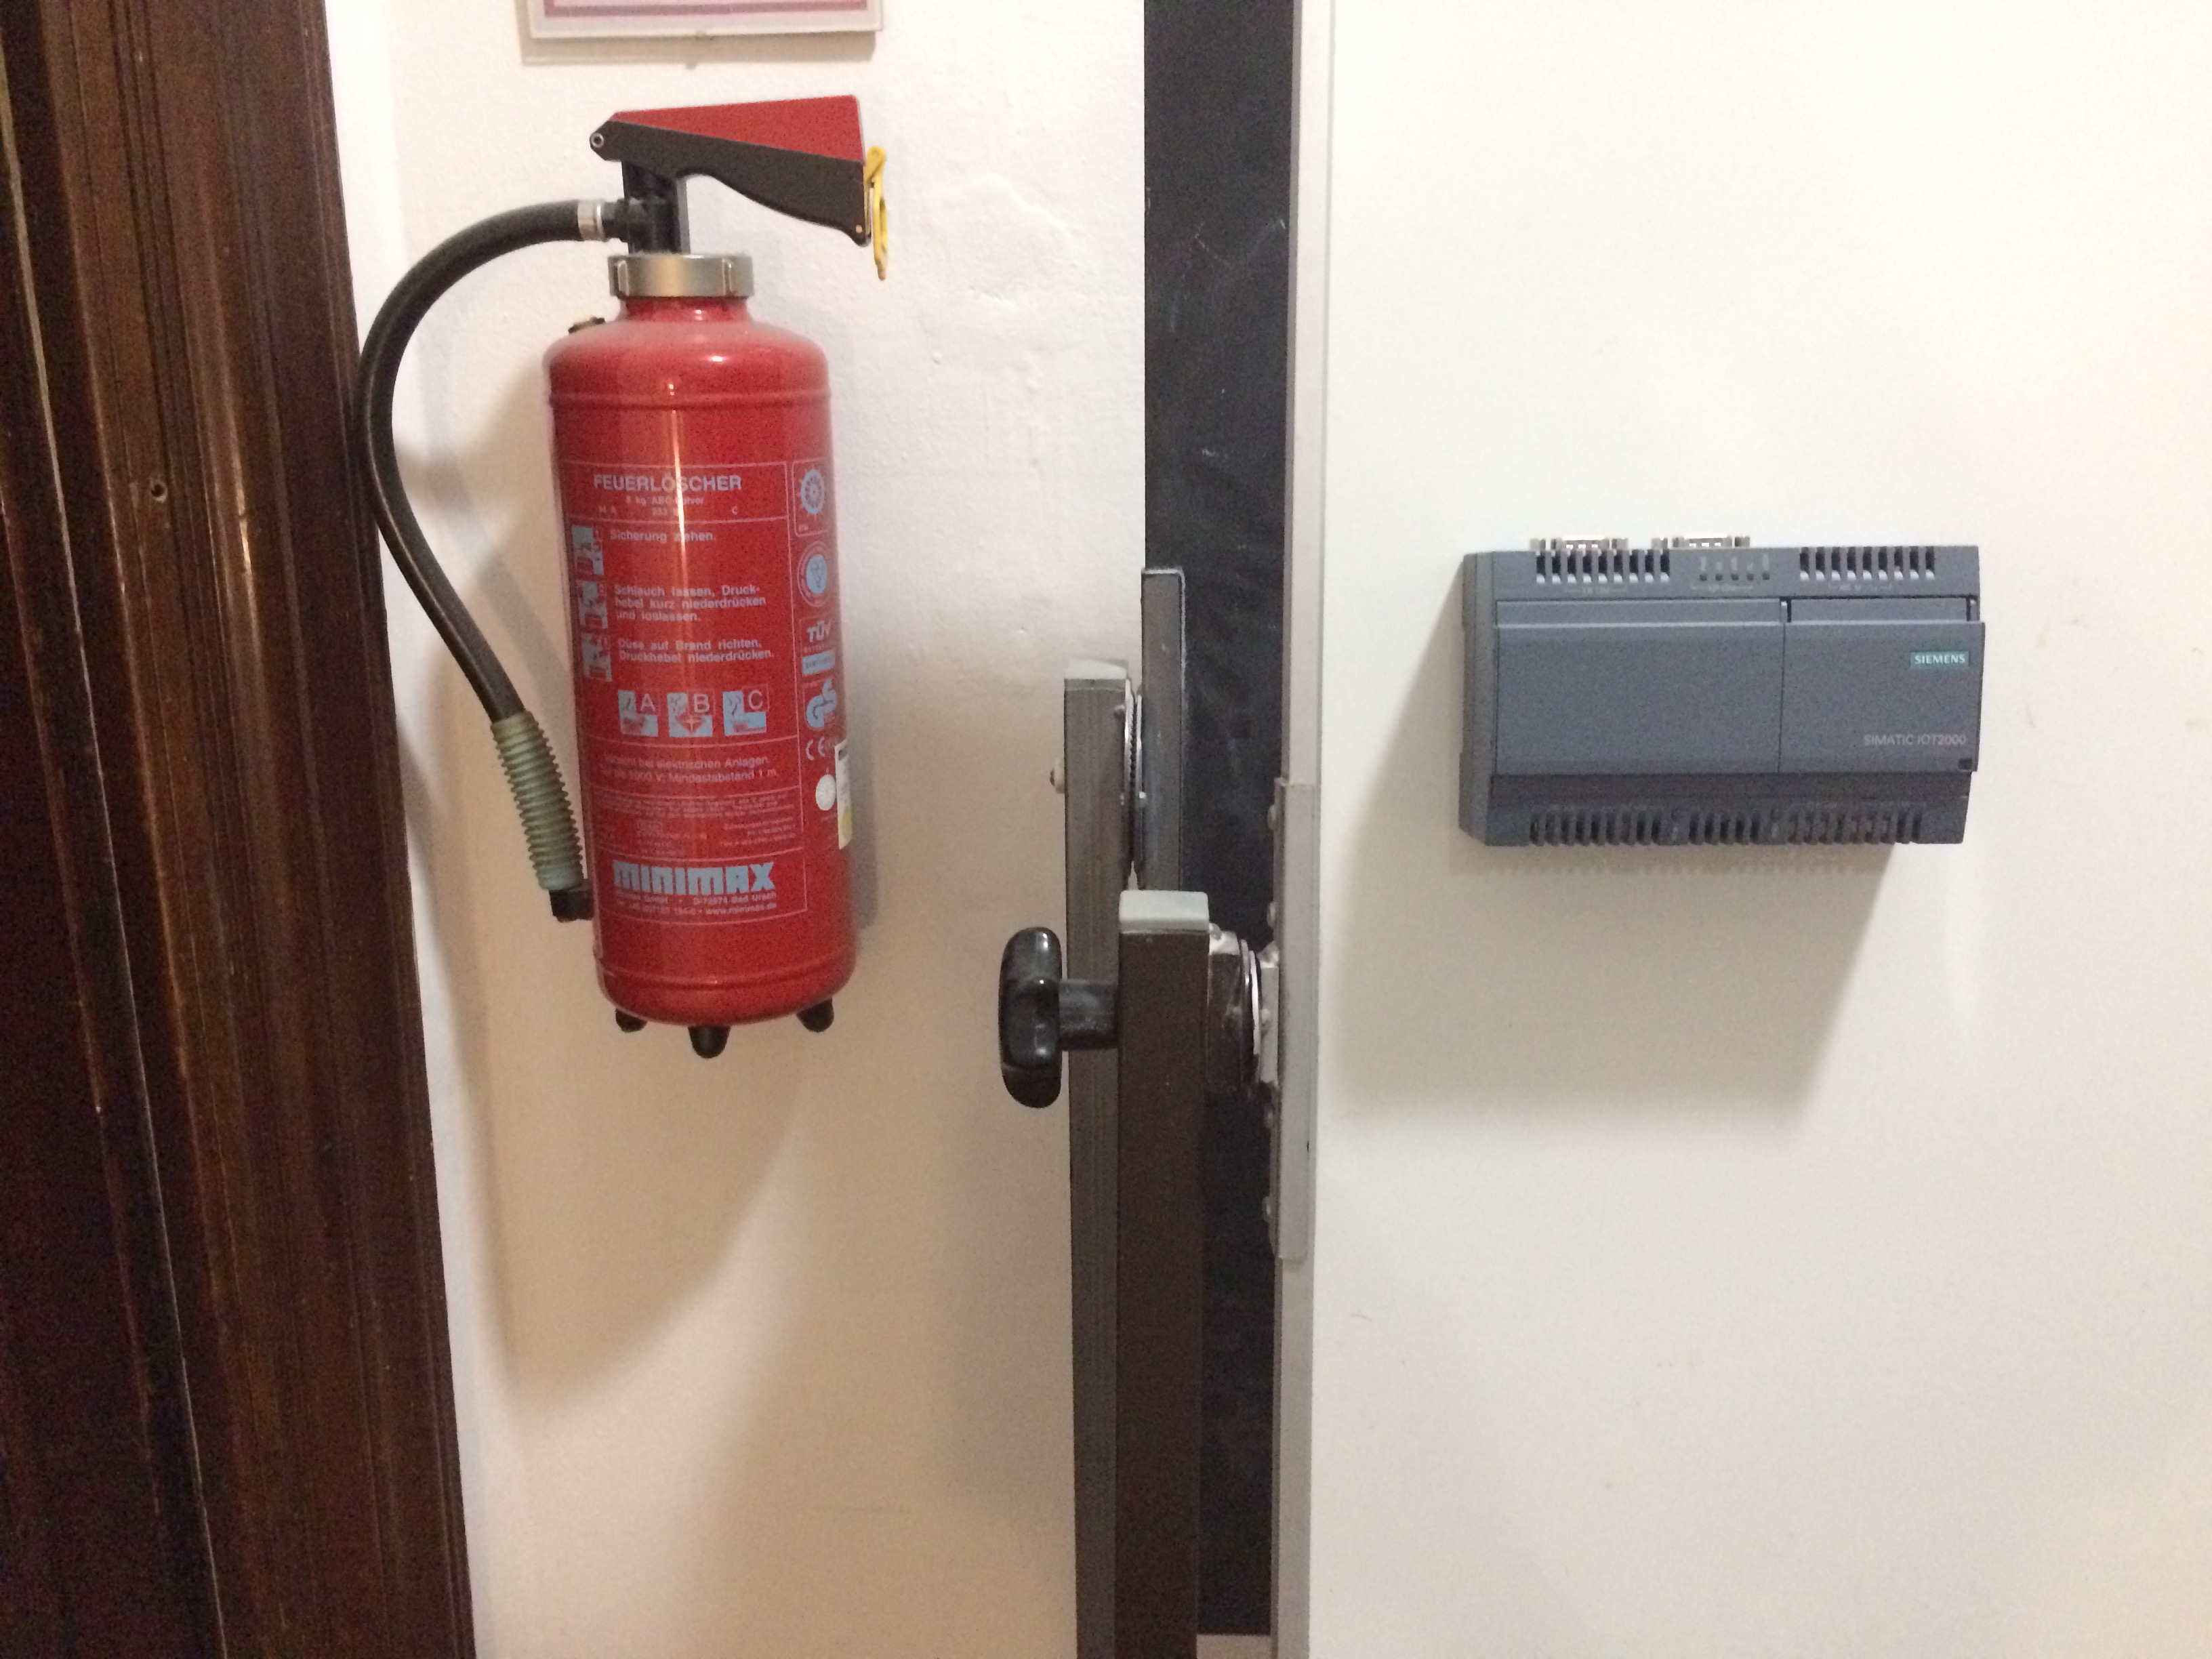iot2000: (1454, 533, 1993, 854)
